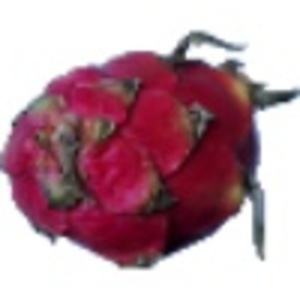pitaia: (1, 31, 300, 270)
